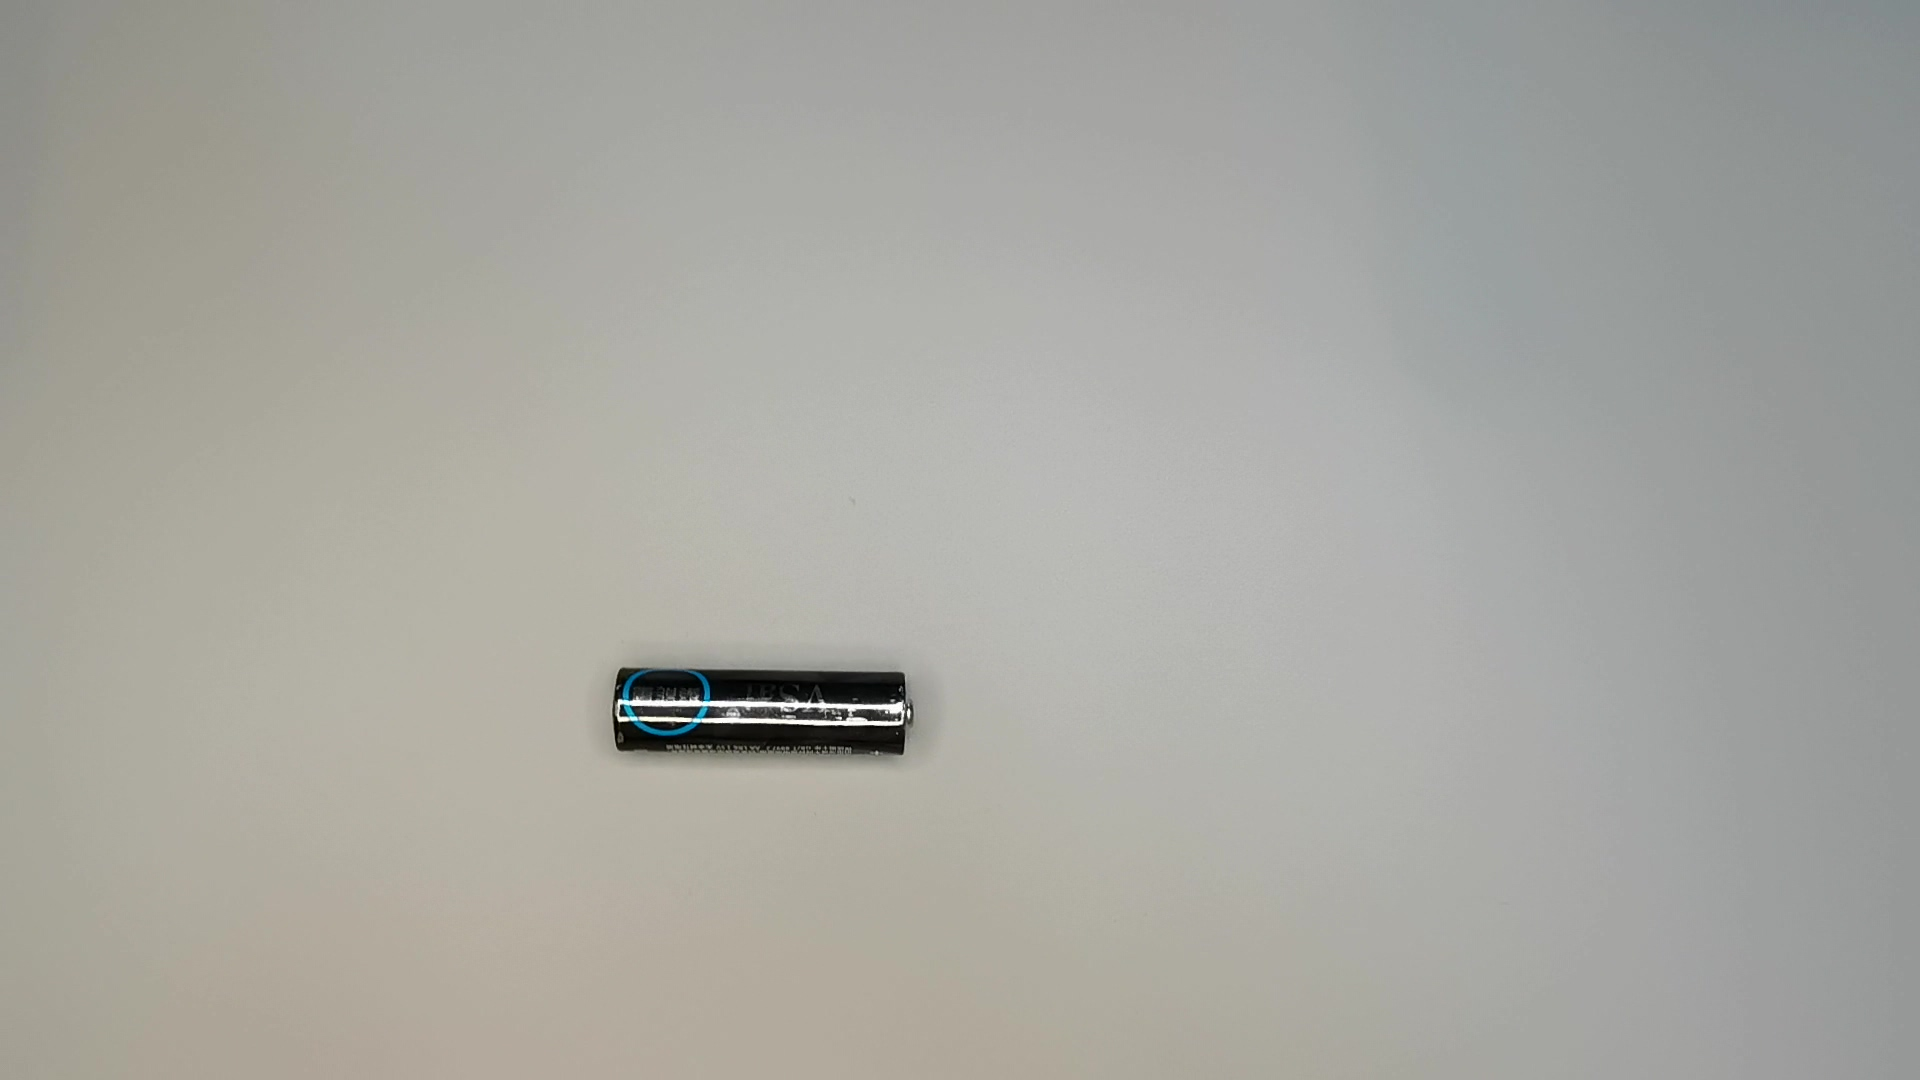battery: (611, 663, 928, 765)
